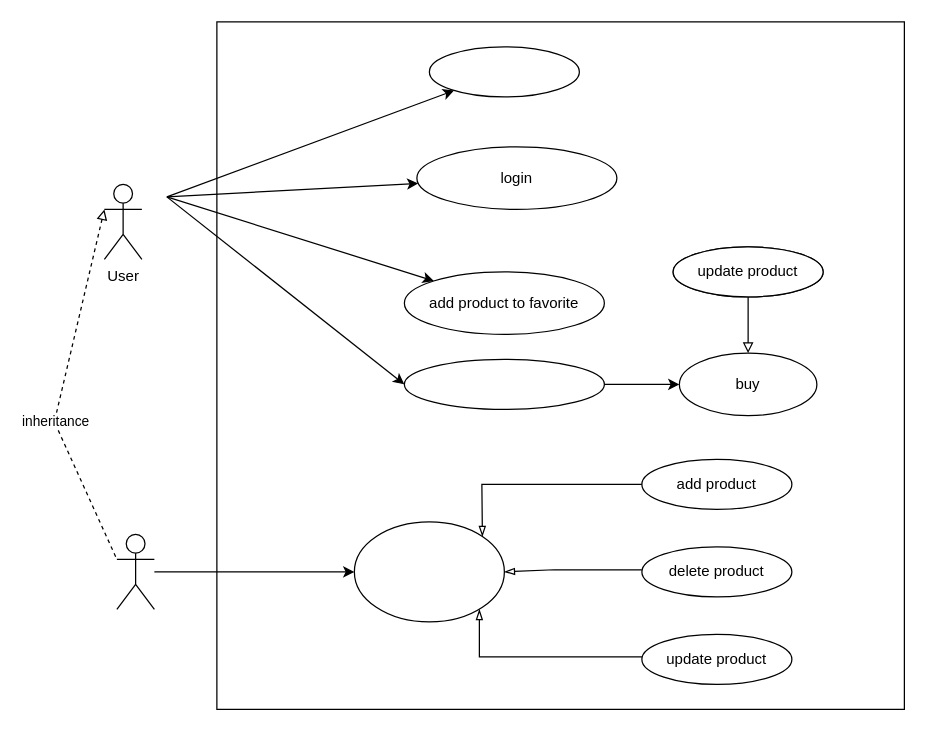
The diagram is 926 pixels wide and 731 high, and some of its shapes have lost their labels. Here are the shapes that lost their labels. From the top down, the centre of each, then its label:
pixel 503 71: register
pixel 503 383: add product to shopping cart
pixel 135 571: Admininstartor
pixel 428 571: edit product
